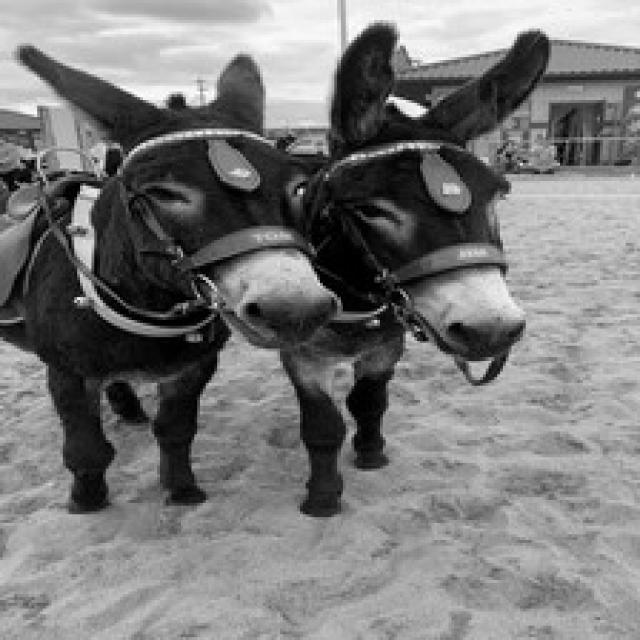Donkey: (103, 20, 548, 517), (0, 40, 337, 514)
